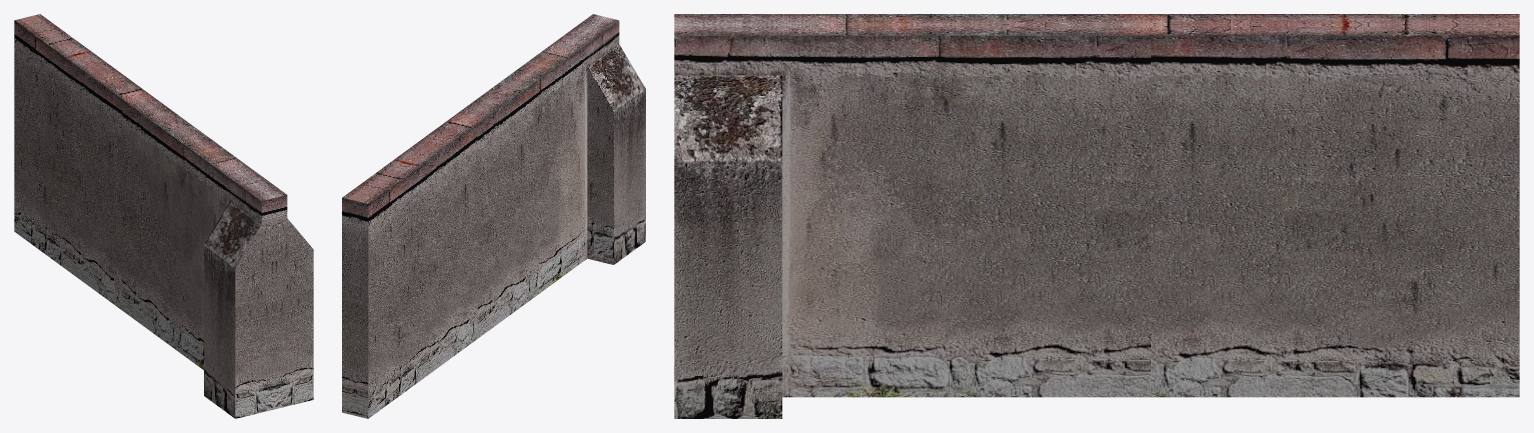
File: concrete_wall_1.obj
3 renders of one model, left to right at view 1: azimuth 30°, elevation 25°; view 2: azimuth 150°, elevation 25°; view 3: azimuth 270°, elevation 25°, orthographic. The views are drawn at different scales.
Visible parts, largest first — view 1: concrete_wall_1; view 2: concrete_wall_1; view 3: concrete_wall_1.
Part boxes in pixels (x1,y1,x2,y2): concrete_wall_1: (14,14,313,418); concrete_wall_1: (342,14,645,418); concrete_wall_1: (674,14,1519,418).
Bounding box in the file's own units: 0.6606 × 1.71 × 3.62.
Materials: 1 (1 with a texture image).
